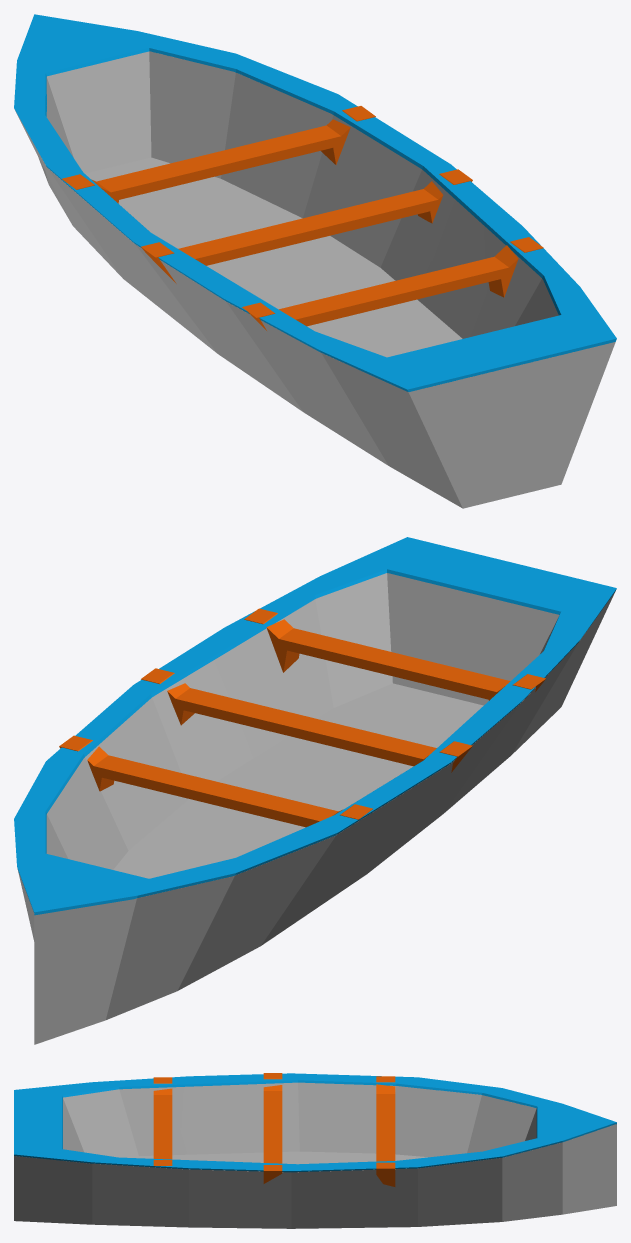
3 views of the same model, one above another, from view 1: azimuth 30°, elevation 25°; view 2: azimuth 150°, elevation 25°; view 3: azimuth 270°, elevation 25° (orthographic). The views are drawn at different scales.
Visible parts, largest first — view 1: outer, rim_outer, bar.001, bar.002, bar; view 2: outer, rim_outer, bar.001, bar, bar.002; view 3: outer, rim_outer, bar.002, bar.001, bar.
Boxes of the visible parts, x1,y1,x2,y2 form: outer: [15, 51, 615, 508]; rim_outer: [14, 14, 616, 391]; bar.001: [141, 169, 472, 283]; bar.002: [62, 106, 375, 203]; bar: [242, 237, 543, 330]; outer: [18, 573, 615, 1044]; rim_outer: [14, 537, 616, 915]; bar.001: [141, 668, 472, 772]; bar: [244, 608, 545, 700]; bar.002: [59, 735, 372, 827]; outer: [14, 1082, 616, 1228]; rim_outer: [14, 1073, 616, 1172]; bar.002: [376, 1076, 395, 1186]; bar.001: [263, 1073, 282, 1183]; bar: [153, 1077, 172, 1165].
Bounding box in the file's own units: 1.54 × 0.615 × 4.
